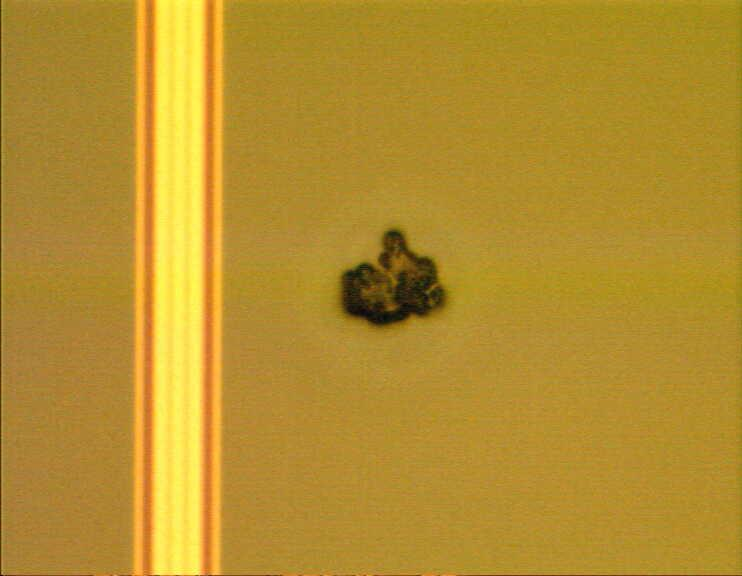PIQ PARTICLE: (331, 225, 457, 333)
